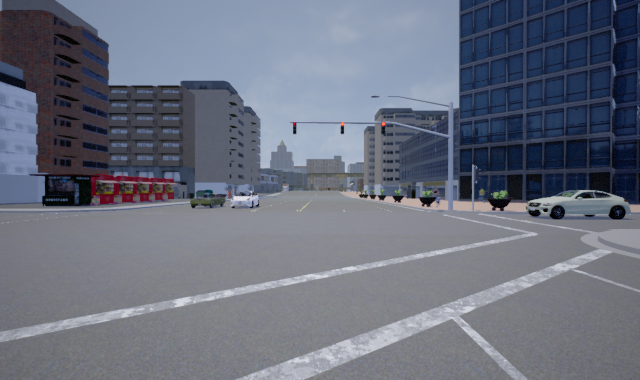pedestrian: (477, 185, 487, 204), (433, 184, 439, 203)
vehicle: (523, 188, 630, 219), (190, 189, 226, 207), (229, 191, 260, 209)
